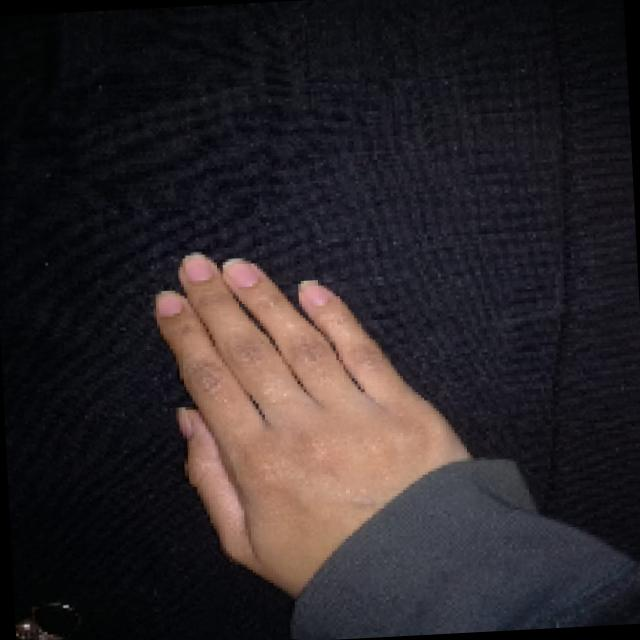Nail: (222, 258, 258, 288), (182, 253, 211, 281), (301, 280, 329, 305), (156, 291, 182, 317), (178, 407, 193, 439)
